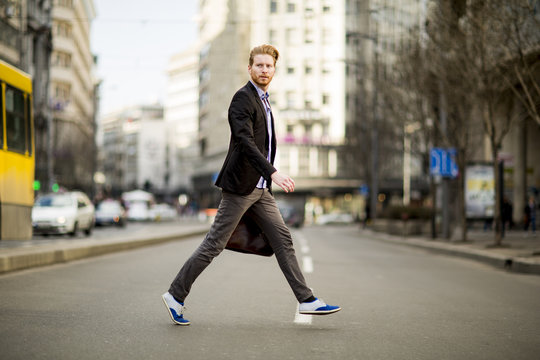Person: (161, 41, 346, 327)
